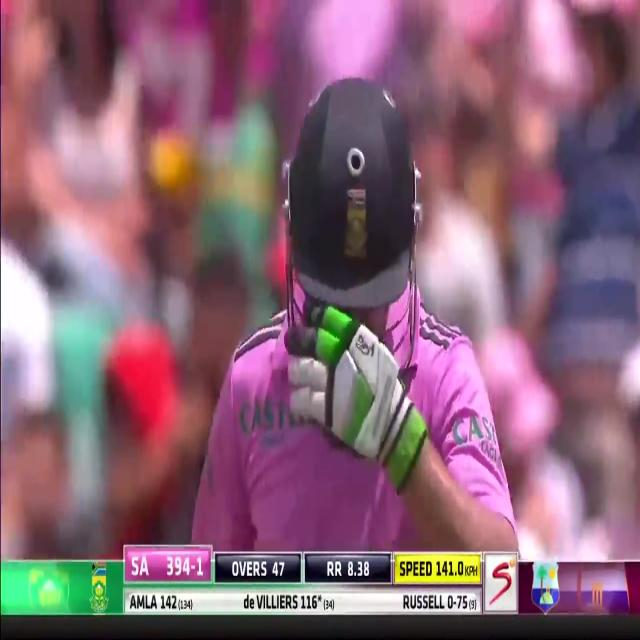Ball: (192, 69, 512, 557)
